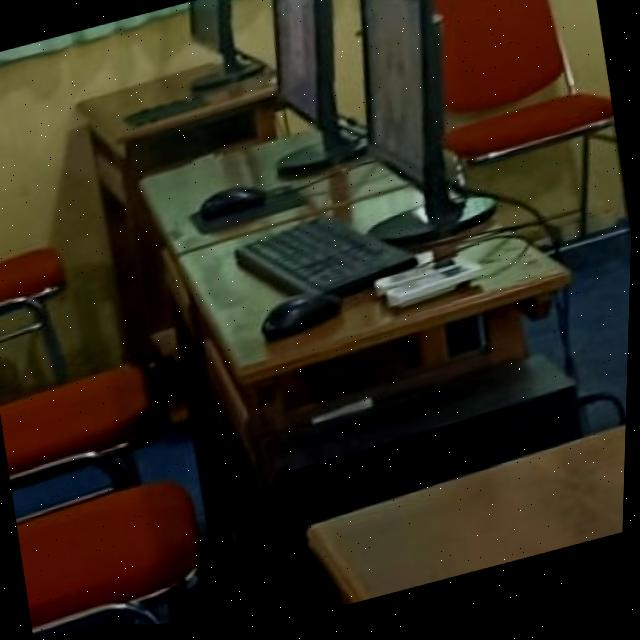onscreen: (364, 0, 423, 191), (275, 0, 317, 126)
